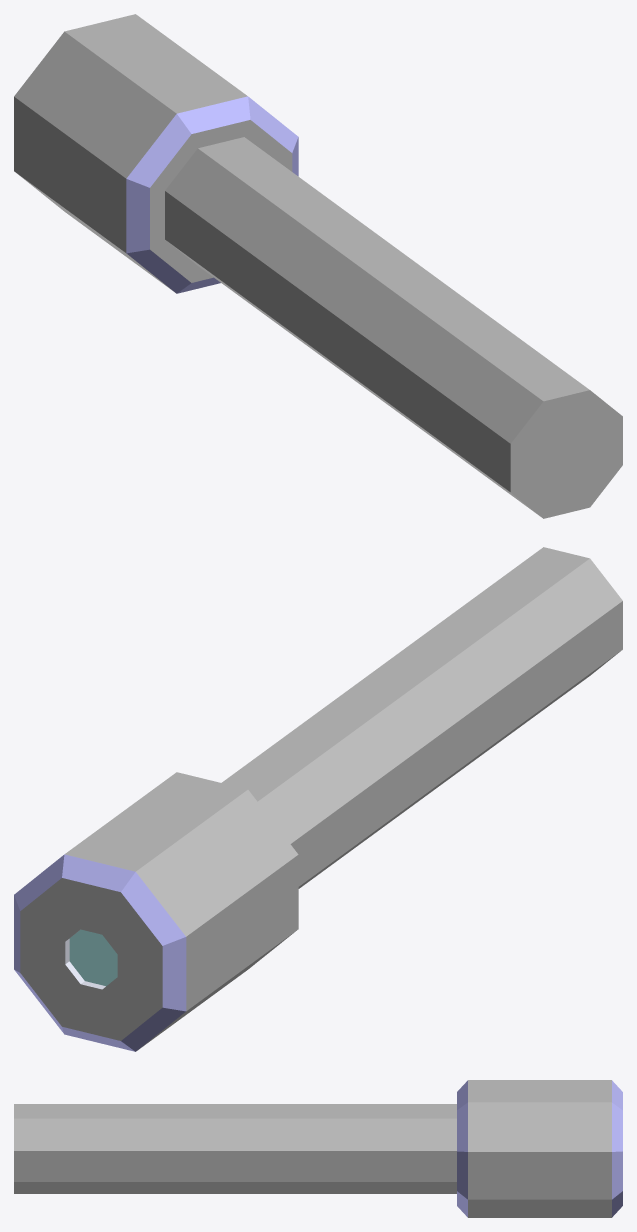
Rendered from Drone_Laser_V2.fbx.
3 renders of one model, top to bottom at view 1: azimuth 30°, elevation 25°; view 2: azimuth 150°, elevation 25°; view 3: azimuth 270°, elevation 25°, orthographic. The views are drawn at different scales.
Parts seen in each view (by area): view 1: Cut-Extrude1.001; view 2: Cut-Extrude1.001; view 3: Cut-Extrude1.001.
Part boxes in pixels (box(x1,y1,x2,y2)): Cut-Extrude1.001: box(14, 14, 622, 518); Cut-Extrude1.001: box(14, 547, 622, 1051); Cut-Extrude1.001: box(14, 1080, 622, 1217).
Size of the model in its own units: 23 by 23 by 110.
